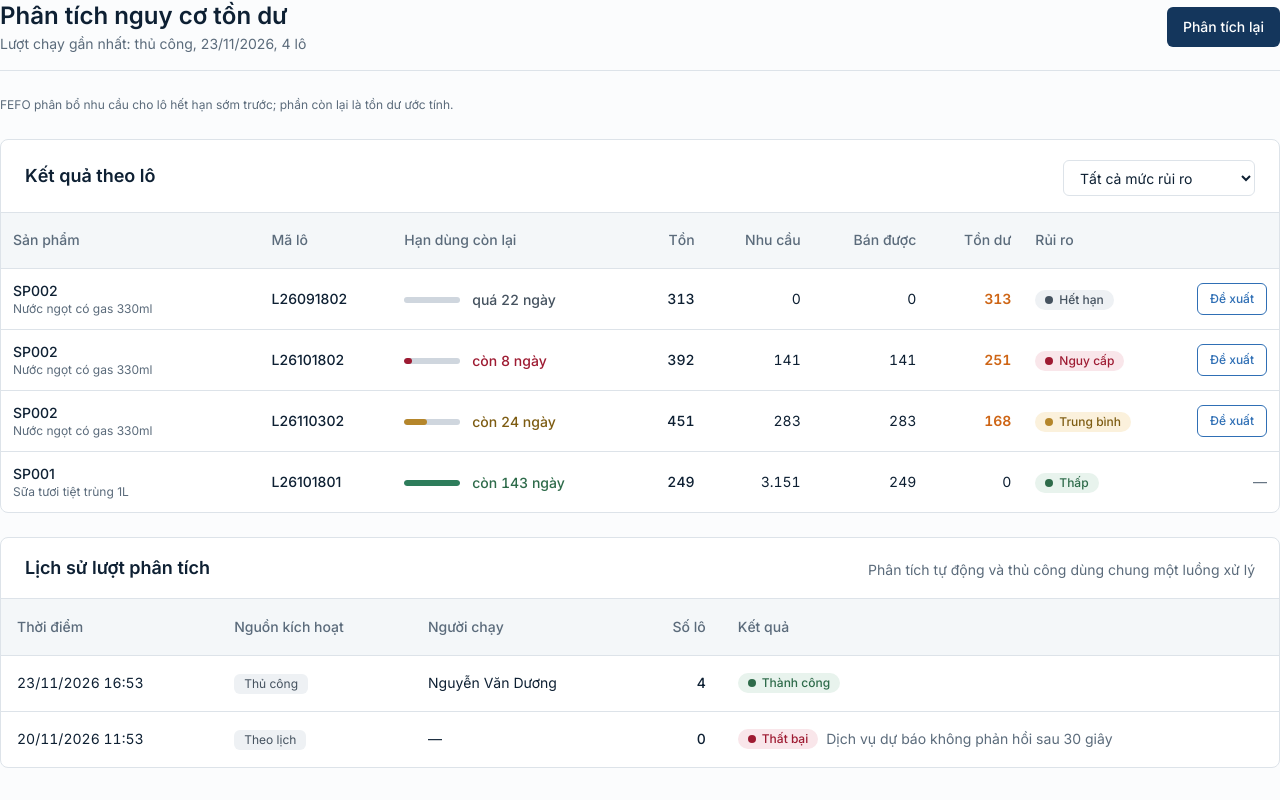
Test: RiskAnalysisPage (T-013 AC8) › bấm dòng lô mở dialog Căn cứ tính hiển thị basis đầy đủ và lọc theo mức rủi ro
The image size is (1280, 800).
Click the text "L26101802" at (326, 360), box [260,330,392,390]
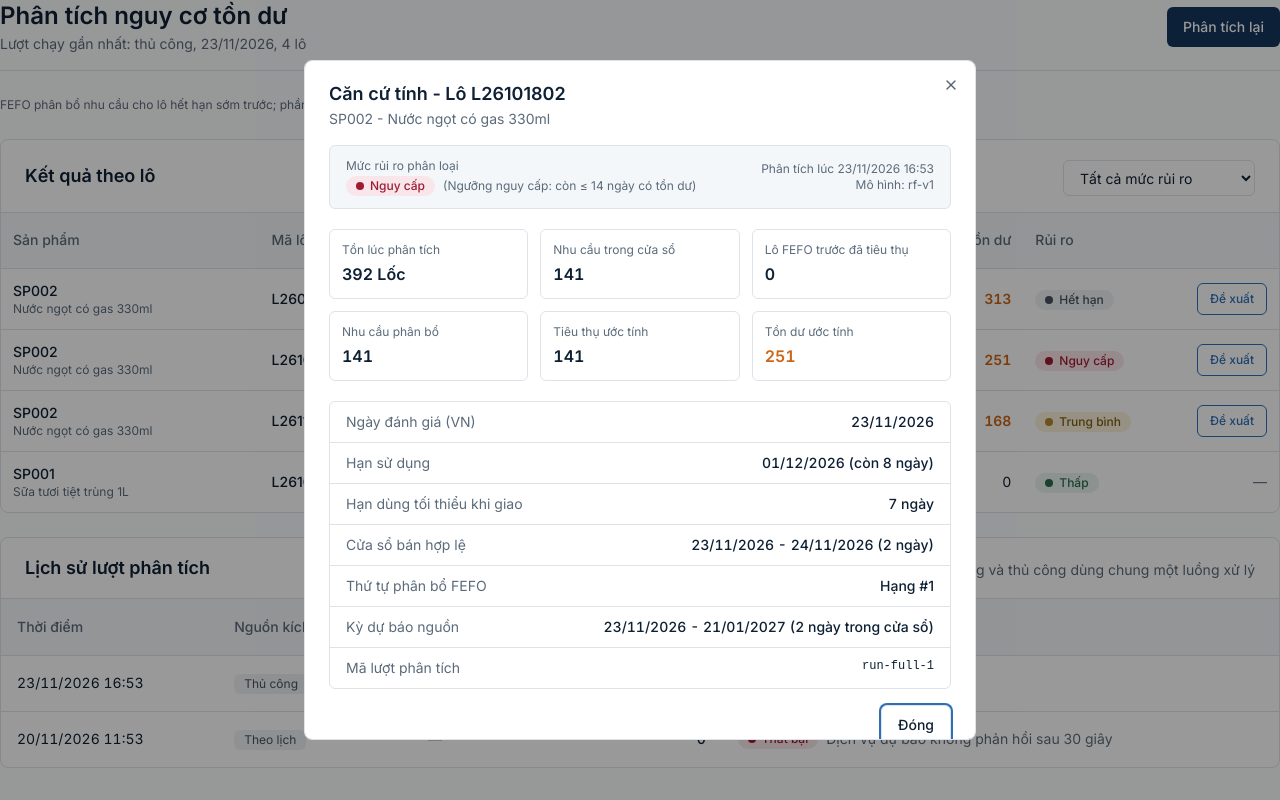
Result: the heading "Căn cứ tính - Lô L26101802" is shown at [329,83,566,104]
Result: the text "Hạng #1" is shown at [880,576,934,596]
Result: the text "7 ngày" is shown at [888,494,934,514]
Click the button "Đóng" at (916, 725), box [881,705,951,745]
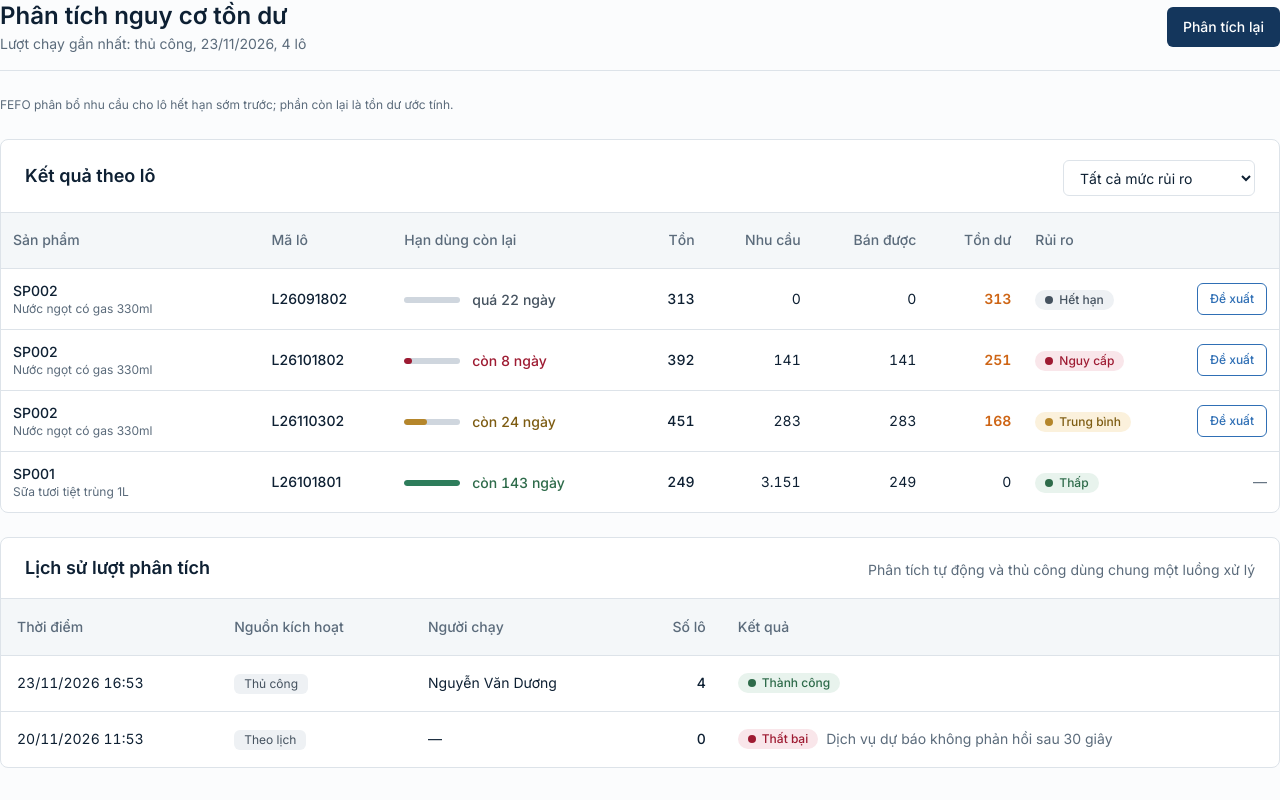
Lọc theo mức Nguy cấp
Select "Nguy cấp" in the dropdown named "Lọc theo mức rủi ro" at (1159, 178), box [1063,160,1255,196]
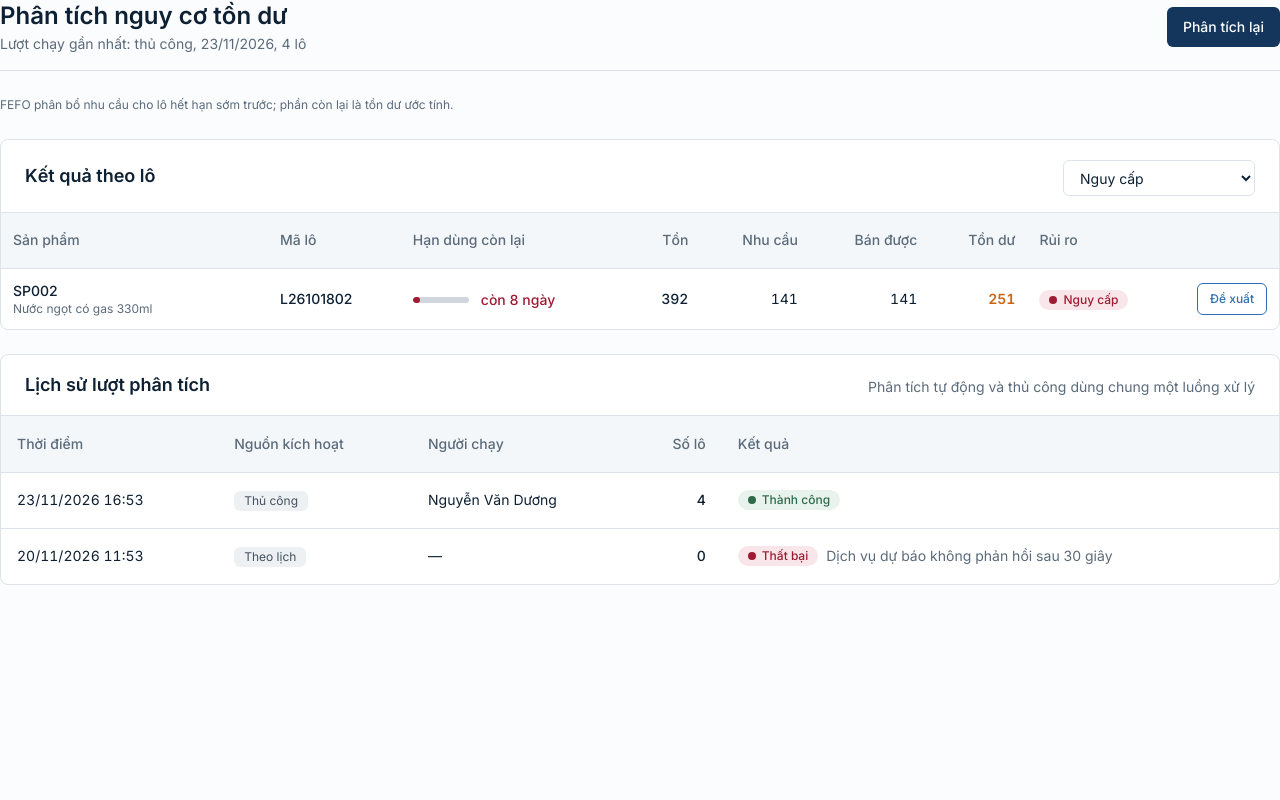
Expected: the text "L26101802" is shown, [268,268,401,329]
Result: the text "L26101801" is gone
